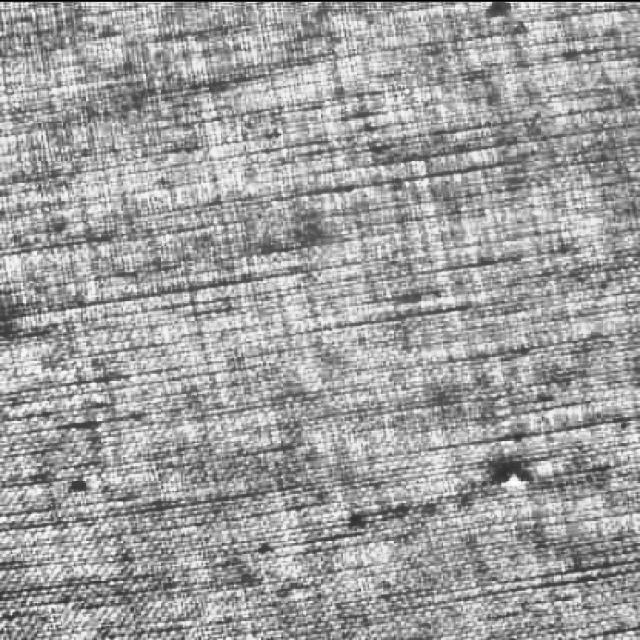hole: (496, 467, 528, 501)
